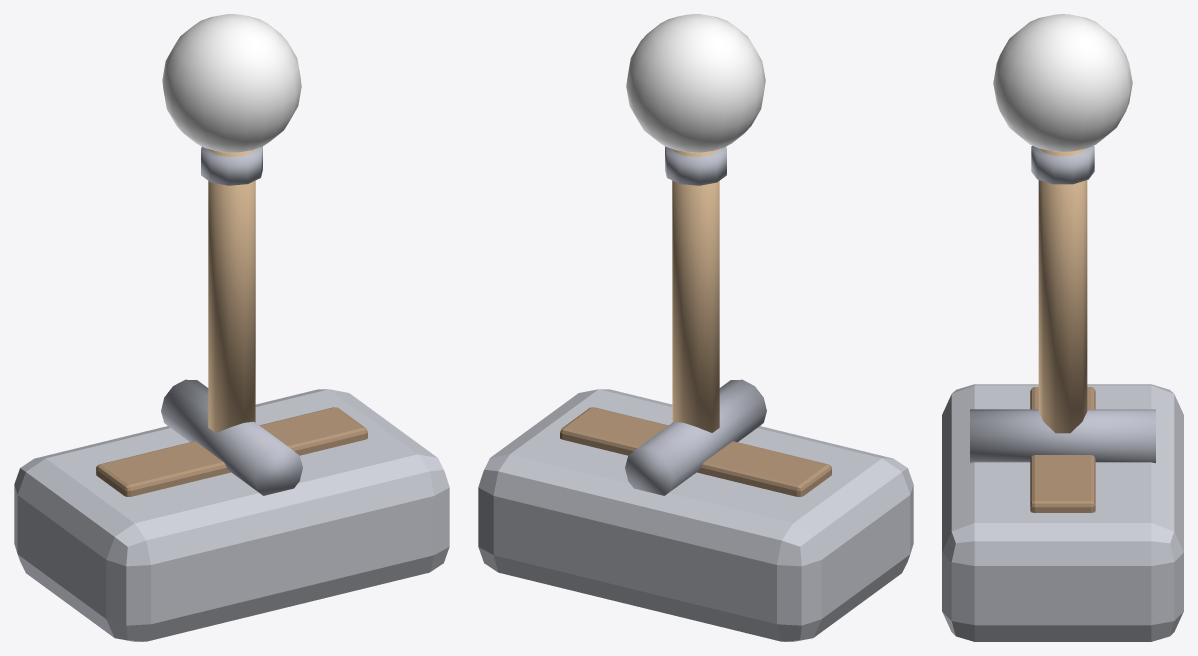
The model's file is lever.fbx.
The picture shows the model from 3 angles, left to right: view 1: azimuth 30°, elevation 25°; view 2: azimuth 150°, elevation 25°; view 3: azimuth 270°, elevation 25°; orthographic projection.
Visible parts, largest first — view 1: LeverBase, LeverHandle; view 2: LeverBase, LeverHandle; view 3: LeverBase, LeverHandle.
Part boxes in pixels (box(x1,y1,x2,y2)): LeverBase: box(14, 379, 449, 641); LeverHandle: box(162, 14, 301, 432); LeverBase: box(478, 379, 913, 641); LeverHandle: box(626, 14, 765, 432); LeverBase: box(942, 384, 1183, 641); LeverHandle: box(993, 14, 1132, 433).
Bounding box in the file's own units: 0.42 × 0.655 × 0.26.
